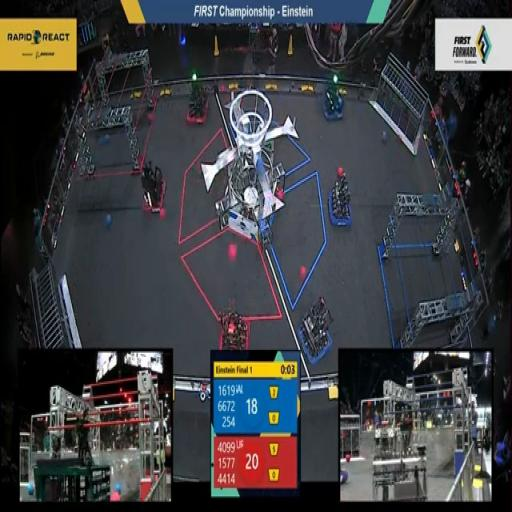robot: (286, 297, 336, 363), (214, 301, 254, 357), (325, 168, 356, 237), (140, 155, 169, 226), (182, 67, 214, 128), (321, 71, 346, 124)
